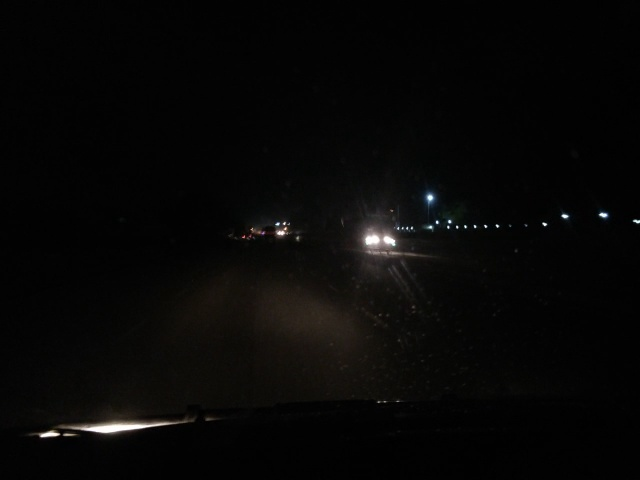truck: (345, 218, 397, 255)
